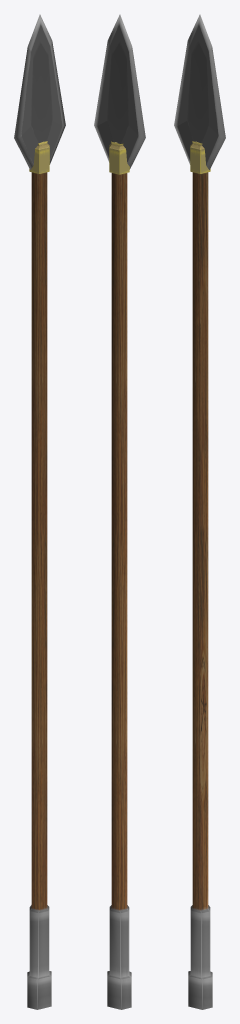
The model's file is spear.glb.
3 views of the same model, side by side, from view 1: azimuth 30°, elevation 25°; view 2: azimuth 150°, elevation 25°; view 3: azimuth 330°, elevation 25° (orthographic).
Parts seen in each view (by area): view 1: Cylinder001, Box001; view 2: Cylinder001, Box001; view 3: Cylinder001, Box001.
Boxes of the visible parts, x1=… form: Cylinder001: x1=27, y1=141, x2=51, y2=1009; Box001: x1=14, y1=14, x2=65, y2=169; Cylinder001: x1=107, y1=141, x2=131, y2=1009; Box001: x1=94, y1=14, x2=145, y2=169; Cylinder001: x1=188, y1=141, x2=212, y2=1009; Box001: x1=174, y1=14, x2=225, y2=169.
Bounding box in the file's own units: 0.1206 × 2.2 × 0.0407.
1 material, 1 textured.
